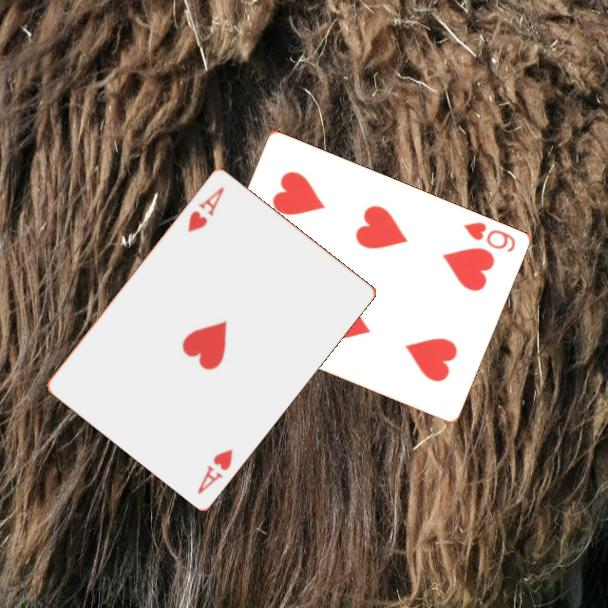h01: (184, 183, 227, 235), (194, 445, 236, 497)
h06: (459, 219, 518, 256)
